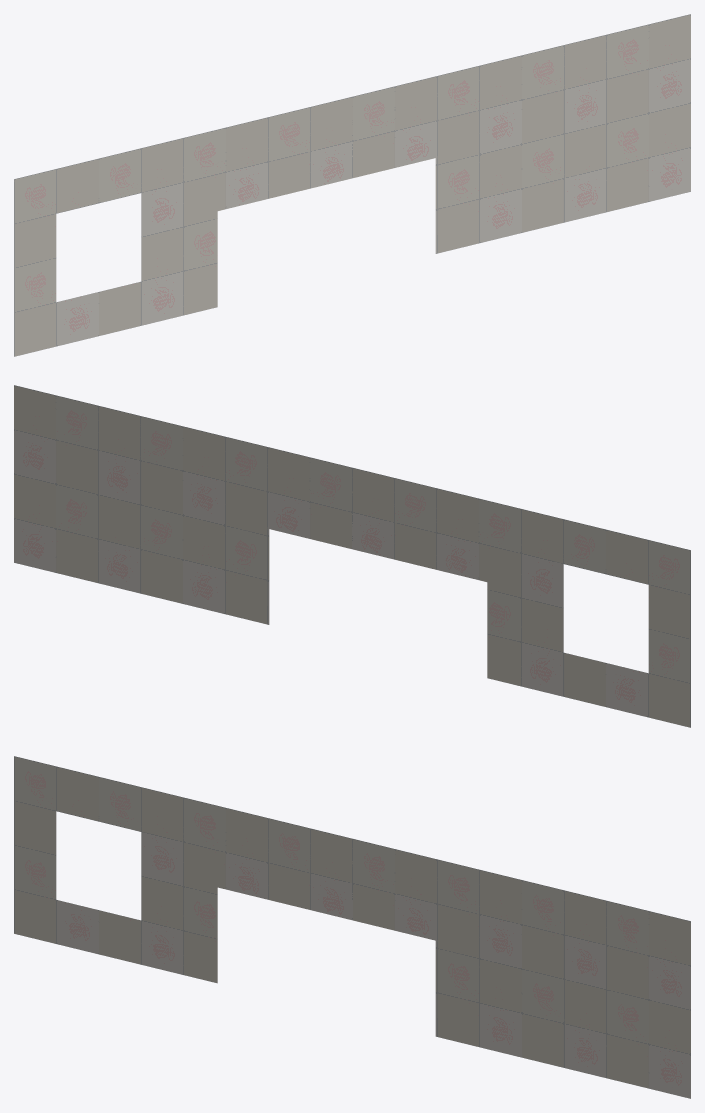
File: kd_stage_135ded_4_110_exterior_piece_0.glb
3 views of the same model, one above another, from view 1: azimuth 30°, elevation 25°; view 2: azimuth 150°, elevation 25°; view 3: azimuth 330°, elevation 25° (orthographic).
Parts seen in each view (by area): view 1: kd_stage_135ded_4_110_exterior_piece_0; view 2: kd_stage_135ded_4_110_exterior_piece_0; view 3: kd_stage_135ded_4_110_exterior_piece_0.
Boxes of the visible parts, <box> form: kd_stage_135ded_4_110_exterior_piece_0: <box>14,14,690,356</box>; kd_stage_135ded_4_110_exterior_piece_0: <box>14,385,690,727</box>; kd_stage_135ded_4_110_exterior_piece_0: <box>14,756,690,1098</box>.
Bounding box in the file's own units: 3.19 × 0.799 × 4.77e-07.
1 material, 1 textured.
